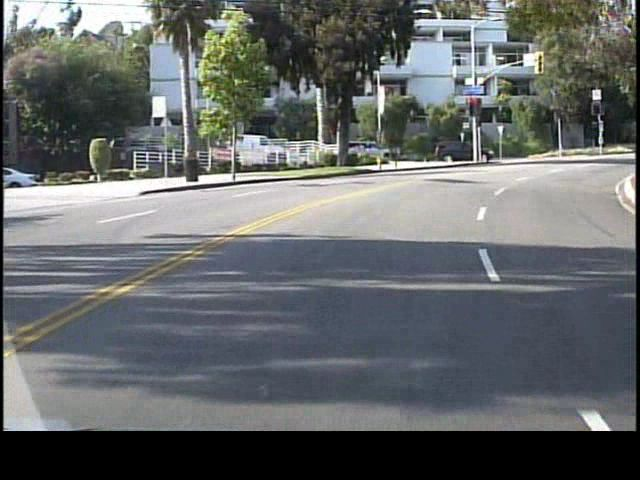strada: (6, 144, 640, 426)
